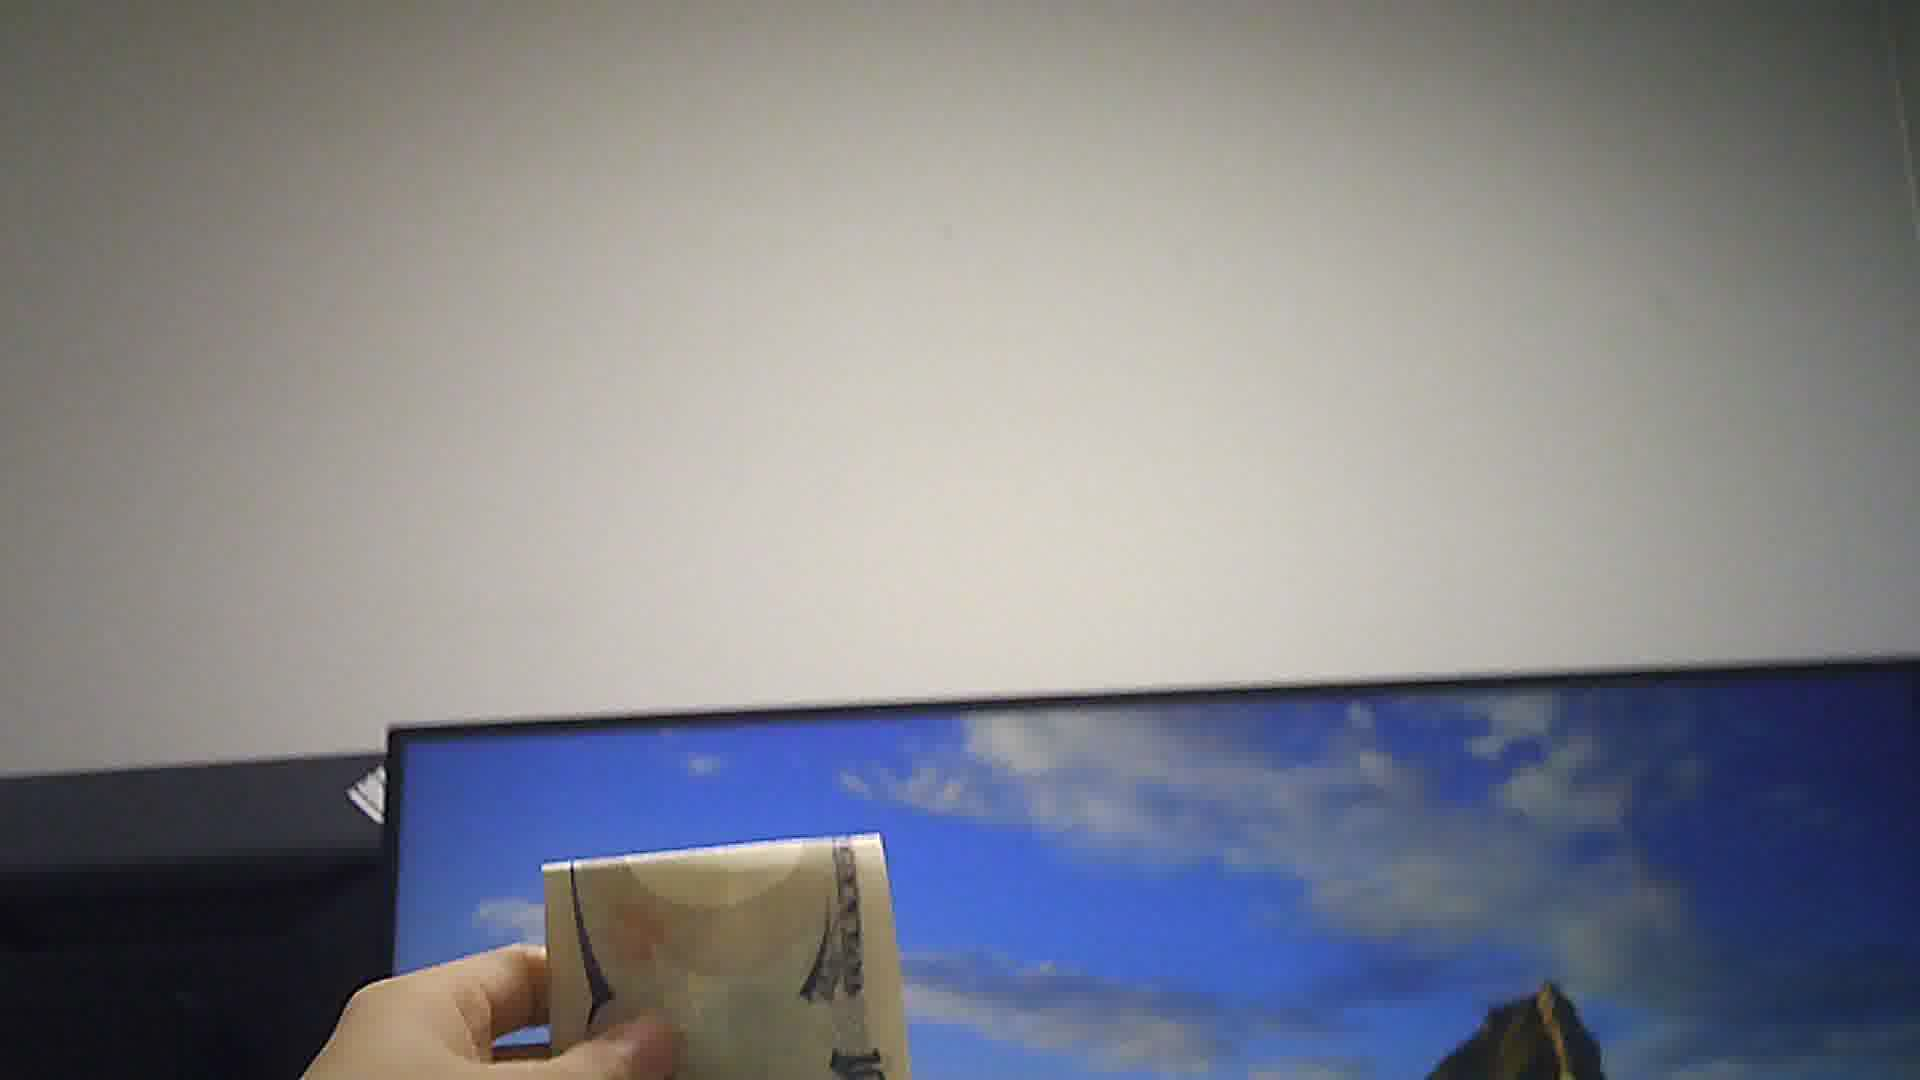1,000 Yen: (527, 835, 905, 1079)
